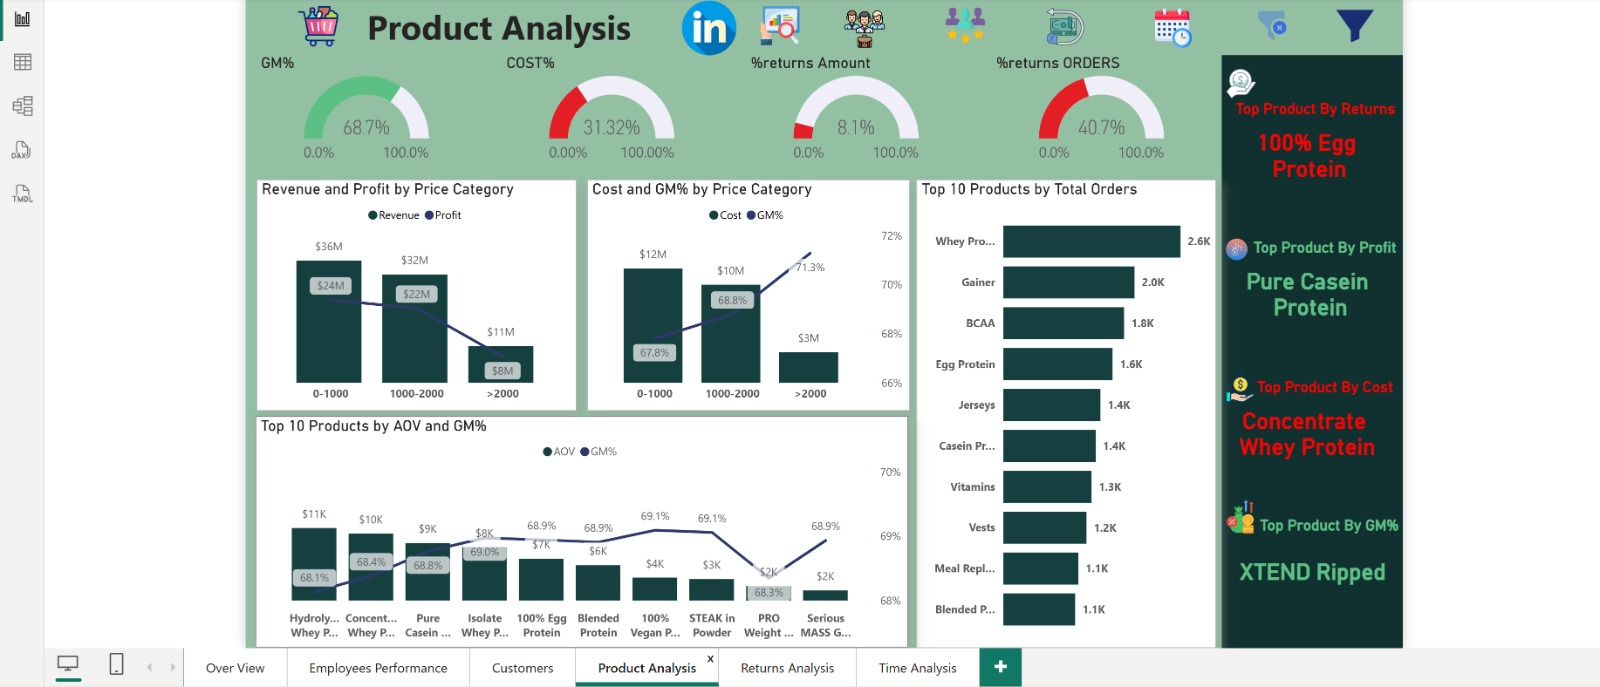

What the dashboard file says about the page in this screenshot:
{"tool":"powerbi","page":{"name":"Product Analysis ","canvas":[1280,720],"ordinal":3},"visuals":[{"type":"gauge","fields":{"Y":["Calculation.GM%"]},"box":[12.4,62.1,242.3,129.2],"z":0},{"type":"gauge","fields":{"Y":["Calculation.COST%"]},"box":[283.3,62.1,242.3,129.2],"z":1000},{"type":"gauge","fields":{"Y":["Return Measures.%returns Amount"]},"box":[554.3,62.1,242.3,129.2],"z":2000},{"type":"gauge","fields":{"Y":["Return Measures.%returns ORDERS"]},"box":[825.2,62.1,242.3,129.2],"z":3000},{"type":"shape","box":[1079.8,63.9,200.3,656.3],"z":4000},{"type":"lineClusteredColumnComboChart","fields":{"Category":["SalesDetails.Price Category"],"Y":["Calculation.Revenue"],"Y2":["Calculation.Profit"]},"box":[12.4,201.3,354.2,256],"z":5000},{"type":"lineClusteredColumnComboChart","fields":{"Category":["SalesDetails.Price Category"],"Y":["Calculation.Cost"],"Y2":["Calculation.GM%"]},"box":[377.2,201.3,356.7,256],"z":6000},{"type":"clusteredBarChart","title":"Top 10 Products by Total Orders","fields":{"Category":["Product.SubcategoryName"],"Y":["Calculation.#Orders"]},"box":[742,201.3,331,518.2],"z":7000},{"type":"lineClusteredColumnComboChart","title":"Top 10 Products by AOV and GM%","fields":{"Y":["Calculation.AOV"],"Category":["Product.ProductName"],"Y2":["Calculation.GM%"]},"box":[11.2,463.5,722,256],"z":8000},{"type":"card","title":"Top Product By Returns ","fields":{"Values":["Min(Product.ProductName)"]},"box":[1075.6,112.9,200.5,101],"z":12000},{"type":"card","title":"Top Product By Profit","fields":{"Values":["Min(Product.ProductName)"]},"box":[1077.6,266.8,200.5,101],"z":13000},{"type":"card","title":"Top Product By Cost","fields":{"Values":["Min(Product.ProductName)"]},"box":[1073.6,420.7,200.5,101],"z":14000},{"type":"card","title":"Top Product By GM%","fields":{"Values":["Min(Product.ProductName)"]},"box":[1079.5,574.7,200.5,101],"z":15000},{"type":"image","box":[1173.3,10,106.7,44.1],"z":16000},{"type":"image","box":[1088,10,92.4,44.1],"z":17000},{"type":"image","box":[555.5,10.1,72.1,43.3],"z":19000},{"type":"image","box":[750.2,10.1,90.9,43.3],"z":20000},{"type":"image","box":[857.8,9.7,97.7,44.6],"z":21000},{"type":"image","box":[972.4,12.1,107.4,43.4],"z":22000},{"type":"textbox","box":[57.9,1.2,454.8,61.5],"z":23000},{"type":"image","box":[0,9.7,160.5,44.6],"z":24000},{"type":"image","box":[1048.2,78.2,105.2,34.1],"z":25000},{"type":"image","box":[1038.2,266.6,114.9,24.5],"z":26000},{"type":"image","box":[1038.2,410.9,122.3,36.7],"z":27000},{"type":"image","box":[1038.2,556.4,122.3,36.7],"z":28000},{"type":"image","box":[627.3,10.9,114.6,44.6],"z":29000},{"type":"image","box":[471.7,3.6,82,60.3],"z":30001}]}

Visuals, with their boxes on the page's 1280x720 design canvas (x1, y1, x2, y2). These are canvas units, not pixel positions in the 1600x687 screenshot, which may show the page scaled, cropped or inside an application window:
gauge - Calculation.GM%: (left=12, top=62, right=255, bottom=191)
gauge - Calculation.COST%: (left=283, top=62, right=526, bottom=191)
gauge - Return Measures.%returns Amount: (left=554, top=62, right=797, bottom=191)
gauge - Return Measures.%returns ORDERS: (left=825, top=62, right=1068, bottom=191)
shape: (left=1080, top=64, right=1280, bottom=720)
lineClusteredColumnComboChart - SalesDetails.Price Category x Calculation.Revenue: (left=12, top=201, right=367, bottom=457)
lineClusteredColumnComboChart - SalesDetails.Price Category x Calculation.Cost: (left=377, top=201, right=734, bottom=457)
"Top 10 Products by Total Orders" clusteredBarChart: (left=742, top=201, right=1073, bottom=720)
"Top 10 Products by AOV and GM%" lineClusteredColumnComboChart: (left=11, top=464, right=733, bottom=720)
"Top Product By Returns " card: (left=1076, top=113, right=1276, bottom=214)
"Top Product By Profit" card: (left=1078, top=267, right=1278, bottom=368)
"Top Product By Cost" card: (left=1074, top=421, right=1274, bottom=522)
"Top Product By GM%" card: (left=1080, top=575, right=1280, bottom=676)
image: (left=1173, top=10, right=1280, bottom=54)
image: (left=1088, top=10, right=1180, bottom=54)
image: (left=556, top=10, right=628, bottom=53)
image: (left=750, top=10, right=841, bottom=53)
image: (left=858, top=10, right=956, bottom=54)
image: (left=972, top=12, right=1080, bottom=56)
textbox: (left=58, top=1, right=513, bottom=63)
image: (left=0, top=10, right=160, bottom=54)
image: (left=1048, top=78, right=1153, bottom=112)
image: (left=1038, top=267, right=1153, bottom=291)
image: (left=1038, top=411, right=1160, bottom=448)
image: (left=1038, top=556, right=1160, bottom=593)
image: (left=627, top=11, right=742, bottom=56)
image: (left=472, top=4, right=554, bottom=64)
